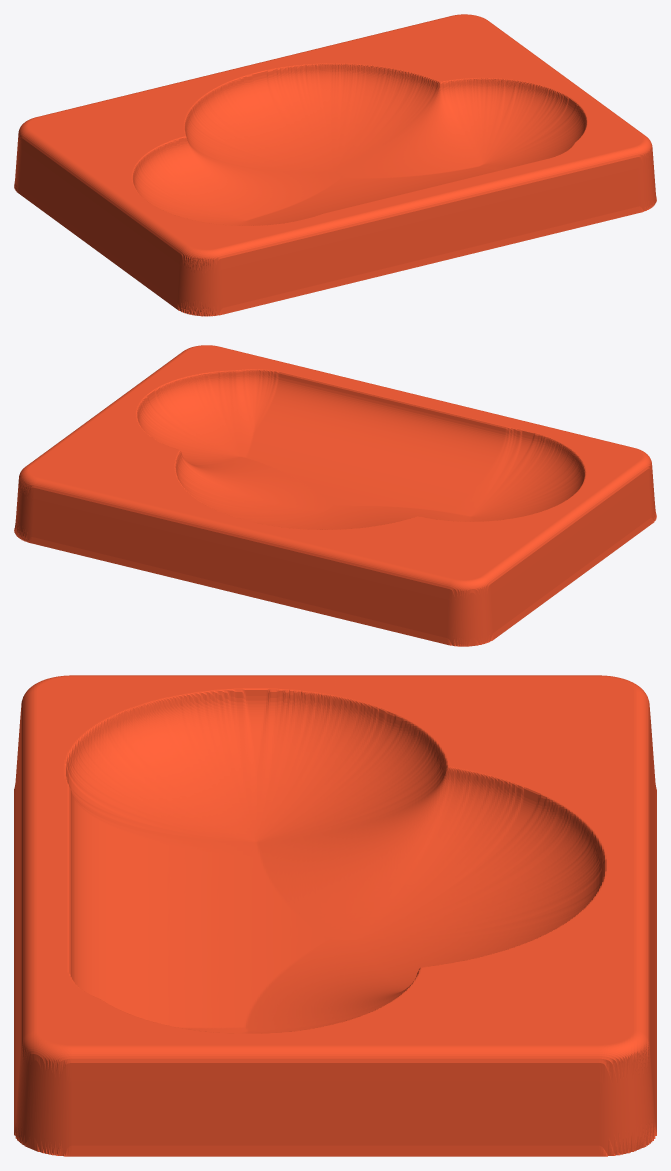
File: mold.glb
The picture shows the model from 3 angles, top to bottom: view 1: azimuth 30°, elevation 25°; view 2: azimuth 150°, elevation 25°; view 3: azimuth 270°, elevation 25°; orthographic projection. The views are drawn at different scales.
Parts seen in each view (by area): view 1: geometry_0; view 2: geometry_0; view 3: geometry_0.
Boxes of the visible parts, x1,y1,x2,y2 form: geometry_0: (14,14,656,316); geometry_0: (14,345,656,646); geometry_0: (14,675,656,1156).
Size of the model in its own units: 0.1435 by 0.0175 by 0.1005.
